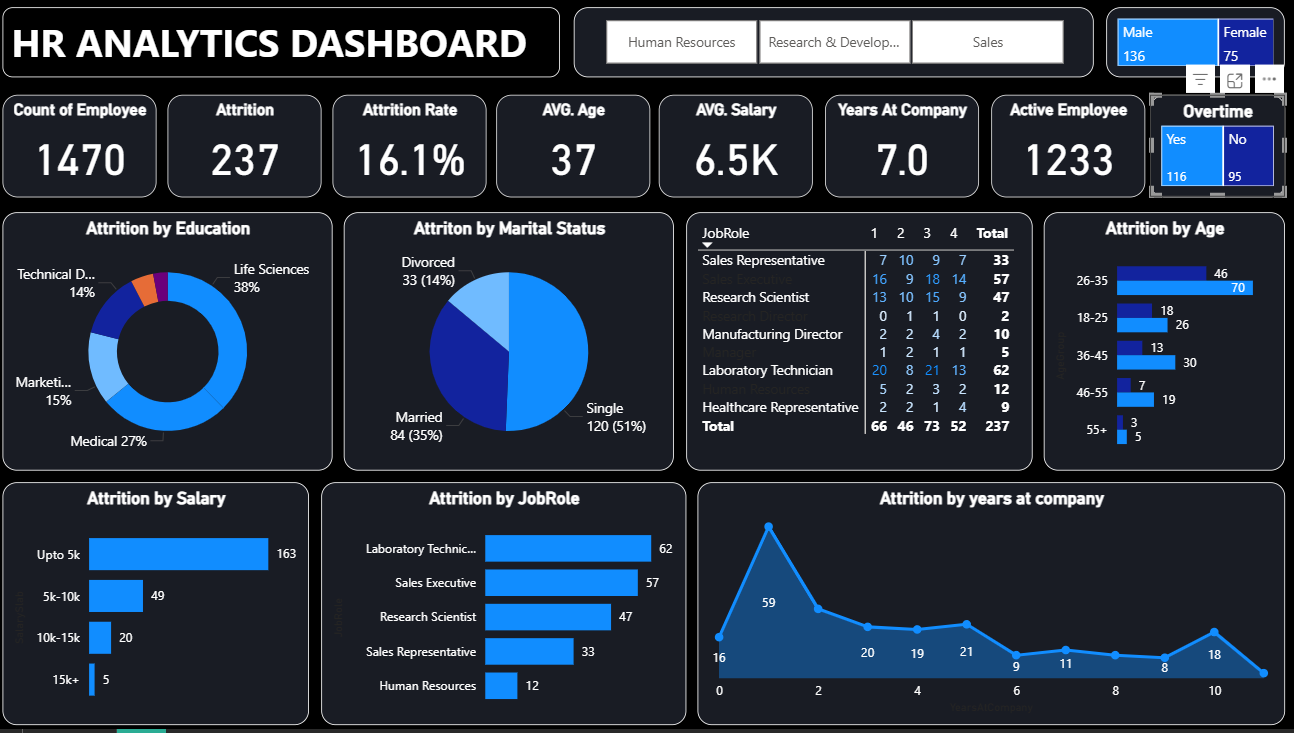

The dashboard page shown, as its layout file describes it:
{"tool":"powerbi","page":{"name":"Page 1","canvas":[1280,720],"ordinal":0},"visuals":[{"type":"card","title":"Count of Employee","fields":{"Values":["CountNonNull(HR_Analytics.EmpID)"]},"box":[12.3,96.9,150.9,100.6],"z":0},{"type":"card","title":"Attrition","fields":{"Values":["Sum(HR_Analytics.AttritonCount)"]},"box":[174.2,96.9,150.9,100.6],"z":1000},{"type":"card","title":"AVG. Age","fields":{"Values":["Avg(HR_Analytics.Age)"]},"box":[496.9,96.9,150.9,100.6],"z":2000},{"type":"card","title":"Attrition Rate","fields":{"Values":["HR_Analytics.AttririonRate"]},"box":[336.2,96.9,150.9,100.6],"z":3000},{"type":"textbox","box":[12.3,11,547.5,68.6],"z":4000},{"type":"card","title":"AVG. Salary","fields":{"Values":["Avg(HR_Analytics.MonthlyIncome)"]},"box":[656.4,96.9,150.9,100.6],"z":5000},{"type":"card","title":"Years At Company","fields":{"Values":["Avg(HR_Analytics.YearsAtCompany)"]},"box":[819.6,96.9,150.9,100.6],"z":6000},{"type":"donutChart","title":"Attrition by Education","fields":{"Y":["Sum(HR_Analytics.AttritonCount)"],"Category":["HR_Analytics.EducationField"]},"box":[12.3,212.3,323.9,254],"z":7000},{"type":"clusteredBarChart","title":"Attrition by Age","fields":{"Category":["HR_Analytics.AgeGroup"],"Y":["Sum(HR_Analytics.AttritonCount)"],"Series":["HR_Analytics.Gender"]},"box":[1034.4,212.3,236.8,254],"z":8000},{"type":"pivotTable","fields":{"Rows":["HR_Analytics.JobRole"],"Columns":["HR_Analytics.JobSatisfaction"],"Values":["Sum(HR_Analytics.AttritonCount)"]},"box":[683.4,212.3,339.9,254],"z":9000},{"type":"barChart","title":"Attrition by Salary","fields":{"Category":["HR_Analytics.SalarySlab"],"Y":["Sum(HR_Analytics.AttritonCount)"]},"box":[12.3,477.3,300.6,238],"z":10000},{"type":"barChart","title":"Attrition by JobRole","fields":{"Y":["Sum(HR_Analytics.AttritonCount)"],"Category":["HR_Analytics.JobRole"]},"box":[325.2,477.3,358.3,238],"z":11000},{"type":"stackedAreaChart","title":"Attrition by years at company","fields":{"Category":["HR_Analytics.YearsAtCompany"],"Y":["Sum(HR_Analytics.AttritonCount)"]},"box":[694.5,477.3,576.7,238],"z":12000},{"type":"treemap","title":"Attrition by Age","fields":{"Group":["HR_Analytics.Gender"],"Values":["Sum(HR_Analytics.AttritonCount)"]},"box":[1095.7,11,175.5,68.7],"z":13000},{"type":"slicer","title":"Attrition by Age","fields":{"Values":["HR_Analytics.Department"]},"box":[573,11,510.4,68.7],"z":14000},{"type":"pieChart","title":"Attriton by Marital Status","fields":{"Category":["HR_Analytics.MaritalStatus"],"Y":["Sum(HR_Analytics.AttritonCount)"]},"box":[347.2,212.3,323.9,254],"z":15000},{"type":"treemap","title":"Overtime","fields":{"Group":["HR_Analytics.OverTime"],"Values":["Sum(HR_Analytics.AttritonCount)"]},"box":[1138.7,96.9,132.5,100.6],"z":16000},{"type":"card","title":"Active Employee","fields":{"Values":["HR_Analytics.Active Employee"]},"box":[982.8,96.9,150.9,100.6],"z":16001}]}

Visuals, with their boxes in screenshot pixels (x1, y1, x2, y2), scaled from the page's 1280x720 canvas onto the 1294x733 screenshot:
"Count of Employee" card: [x1=12, y1=99, x2=165, y2=201]
"Attrition" card: [x1=176, y1=99, x2=329, y2=201]
"AVG. Age" card: [x1=502, y1=99, x2=655, y2=201]
"Attrition Rate" card: [x1=340, y1=99, x2=492, y2=201]
textbox: [x1=12, y1=11, x2=566, y2=81]
"AVG. Salary" card: [x1=664, y1=99, x2=816, y2=201]
"Years At Company" card: [x1=829, y1=99, x2=981, y2=201]
"Attrition by Education" donutChart: [x1=12, y1=216, x2=340, y2=475]
"Attrition by Age" clusteredBarChart: [x1=1046, y1=216, x2=1285, y2=475]
pivotTable - HR_Analytics.JobRole x HR_Analytics.JobSatisfaction: [x1=691, y1=216, x2=1034, y2=475]
"Attrition by Salary" barChart: [x1=12, y1=486, x2=316, y2=728]
"Attrition by JobRole" barChart: [x1=329, y1=486, x2=691, y2=728]
"Attrition by years at company" stackedAreaChart: [x1=702, y1=486, x2=1285, y2=728]
"Attrition by Age" treemap: [x1=1108, y1=11, x2=1285, y2=81]
"Attrition by Age" slicer: [x1=579, y1=11, x2=1095, y2=81]
"Attriton by Marital Status" pieChart: [x1=351, y1=216, x2=678, y2=475]
"Overtime" treemap: [x1=1151, y1=99, x2=1285, y2=201]
"Active Employee" card: [x1=994, y1=99, x2=1146, y2=201]
